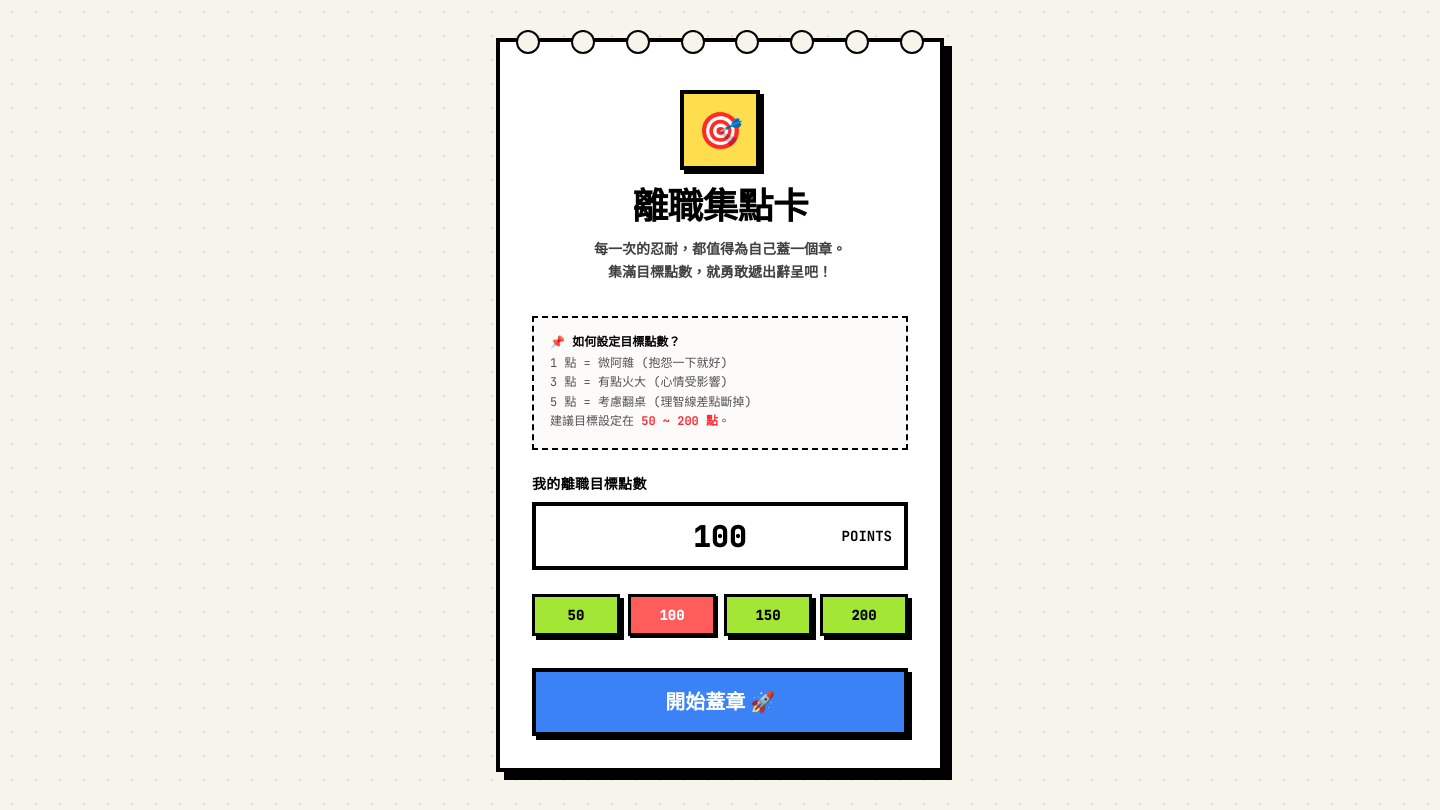
Test case: OnboardingScreen.vue › updates input when preset is clicked
Click the button "200": (864, 615) x1=820 y1=594 x2=908 y2=636
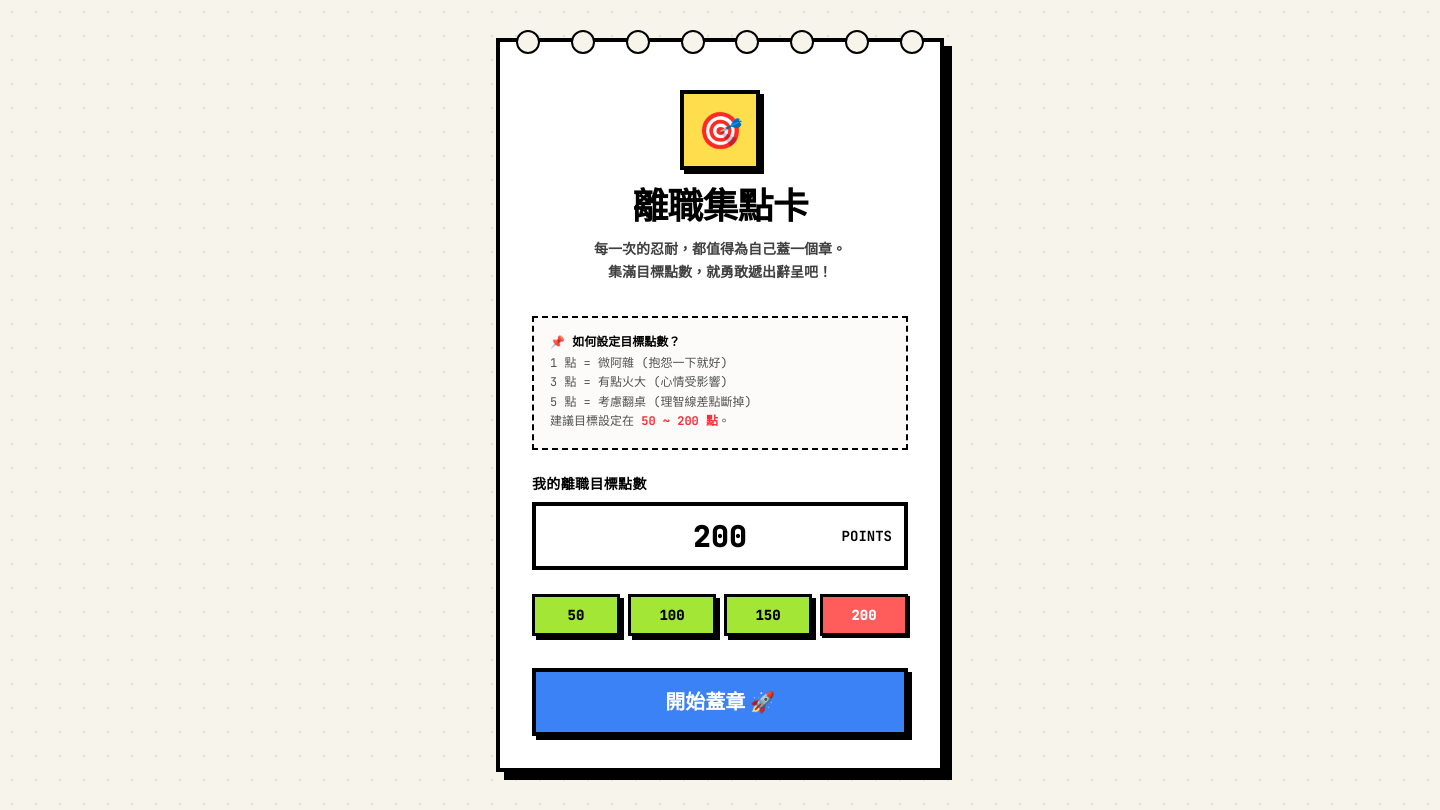
Expected: the number field holds "200", x1=532 y1=502 x2=908 y2=570
